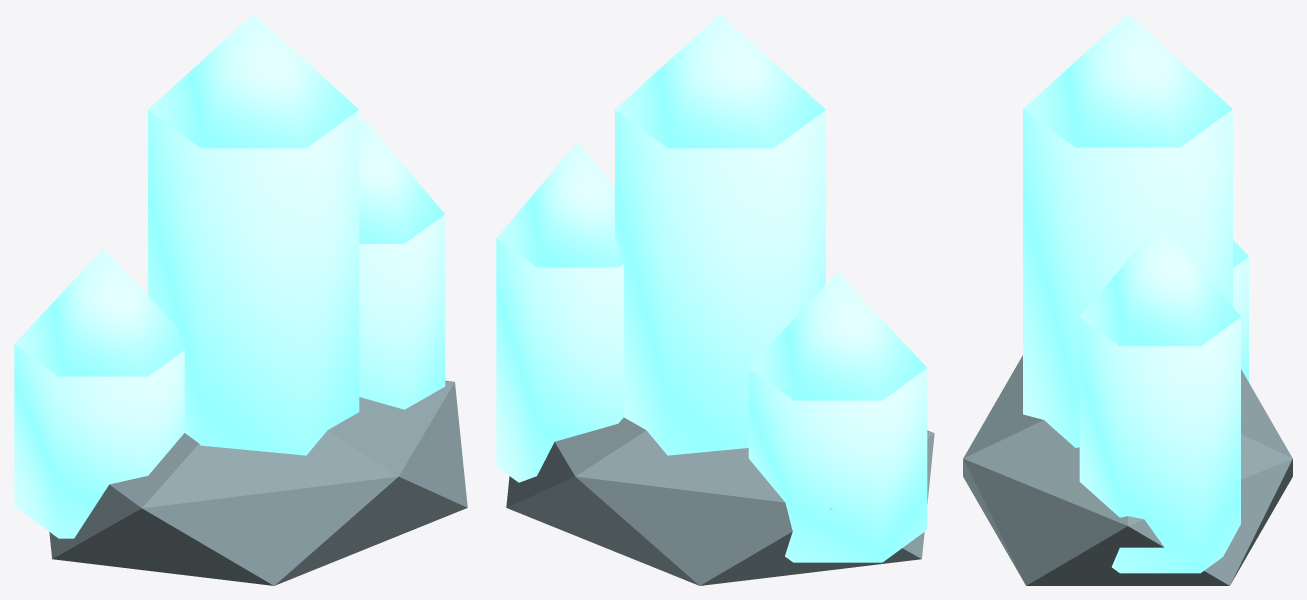
Rendered from resource_quartz.glb.
3 views of the same model, side by side, from view 1: azimuth 30°, elevation 25°; view 2: azimuth 150°, elevation 25°; view 3: azimuth 270°, elevation 25° (orthographic).
Visible parts, largest first — view 1: resource_quartz; view 2: resource_quartz; view 3: resource_quartz.
Part boxes in pixels (<box>): resource_quartz: <box>14,14,467,585</box>; resource_quartz: <box>496,14,934,585</box>; resource_quartz: <box>963,14,1292,585</box>.
Bounding box in the file's own units: 0.5724 × 0.74 × 0.4083.
